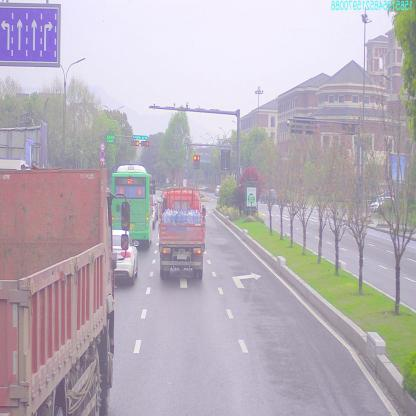traffic-light: (133, 134, 148, 138), (141, 140, 150, 146), (132, 139, 139, 146)
